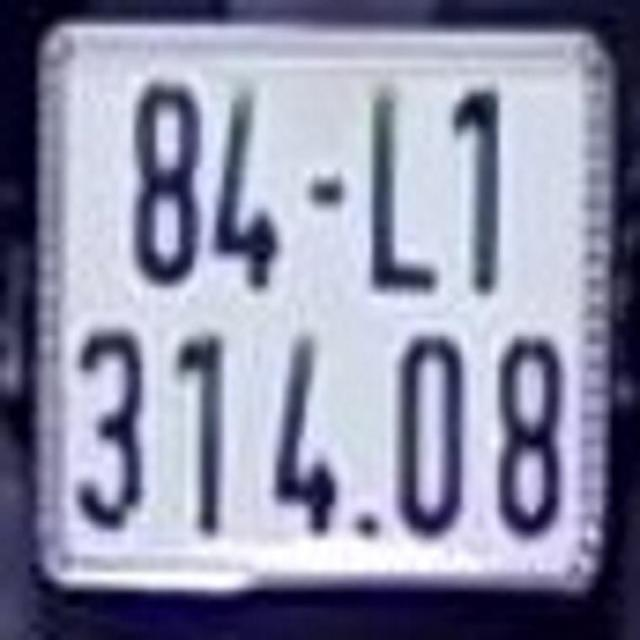0: (402, 326, 464, 542)
1: (452, 88, 504, 294), (178, 336, 226, 532)
3: (78, 328, 141, 526)
4: (267, 333, 341, 532), (212, 92, 278, 286)
8: (489, 332, 562, 532), (134, 85, 198, 282)
L: (368, 96, 440, 292)
